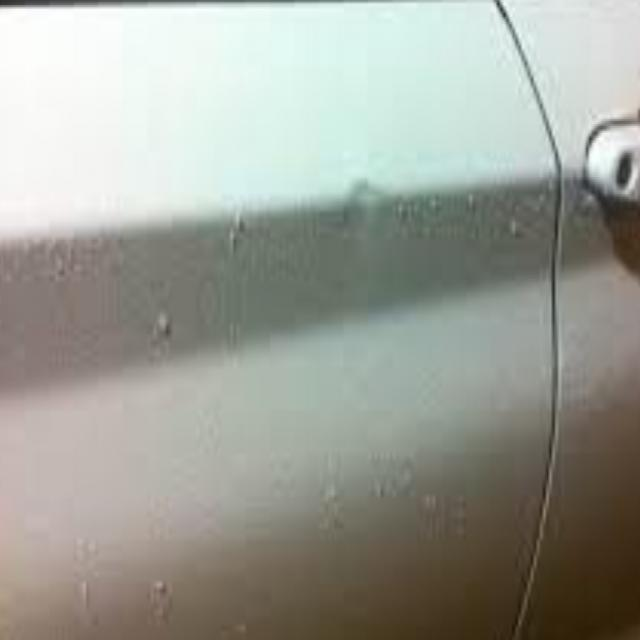dents: (336, 158, 408, 266)
